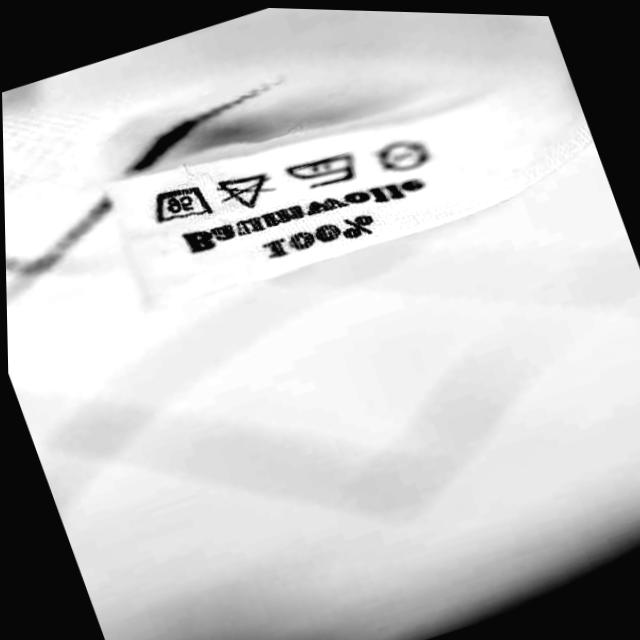95C: (153, 172, 216, 225)
DN_bleach: (218, 163, 271, 215)
iron_medium: (286, 143, 357, 194)
